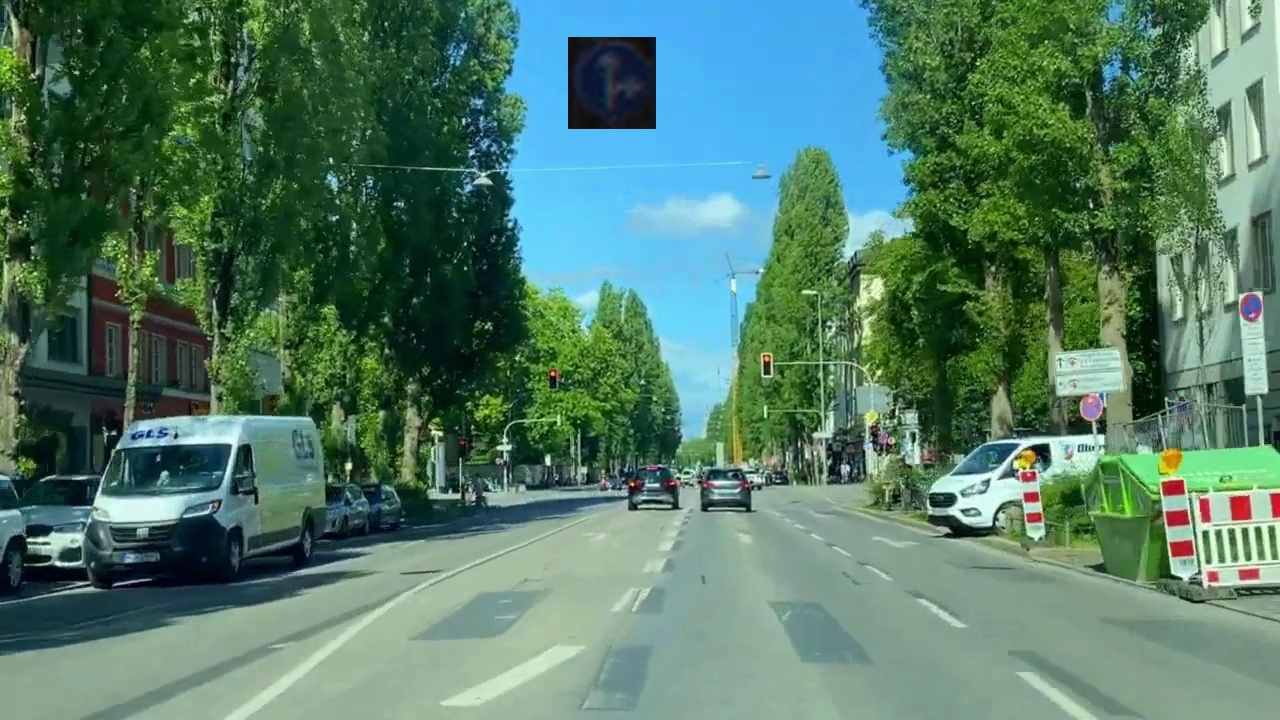Straight/right: (568, 37, 656, 129)
